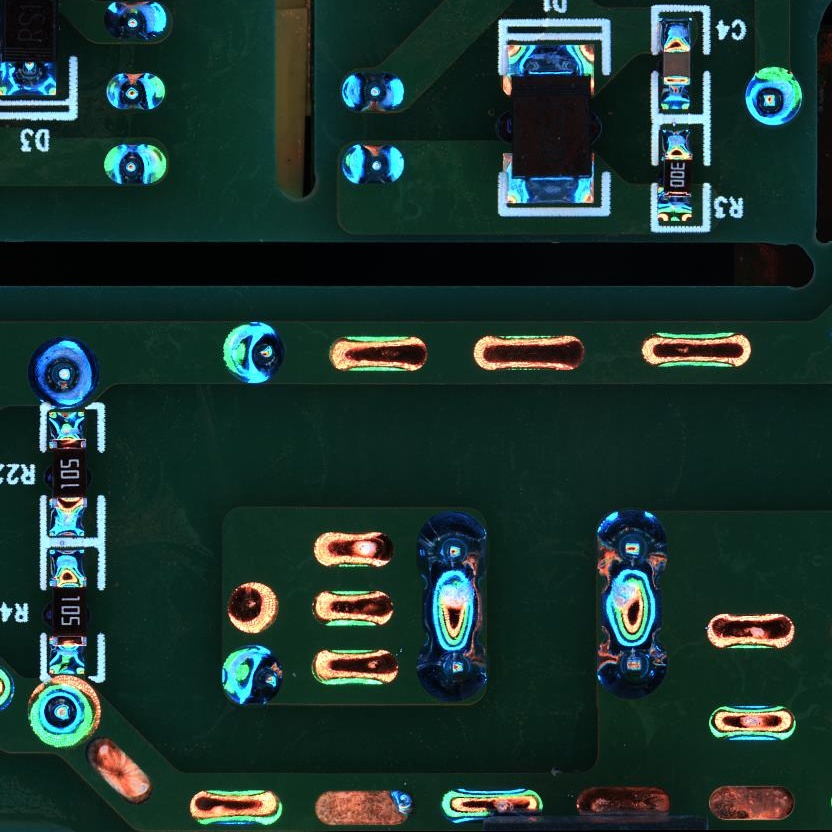spot: (591, 505, 669, 586), (25, 676, 104, 747), (415, 510, 489, 585), (414, 634, 489, 703), (28, 335, 99, 407), (594, 629, 669, 697), (220, 318, 286, 388), (742, 65, 805, 127), (102, 141, 168, 188), (340, 143, 407, 186), (103, 1, 171, 43), (102, 70, 166, 112), (340, 72, 407, 112)
